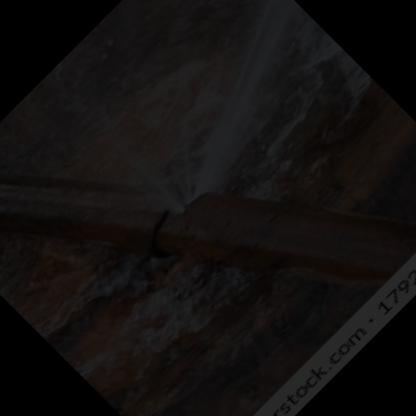burst: (160, 169, 233, 216)
